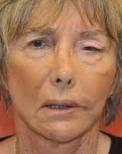strokeEyeSevere: (20, 24, 107, 65)
